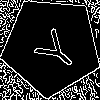Y: (26, 21, 82, 76)
